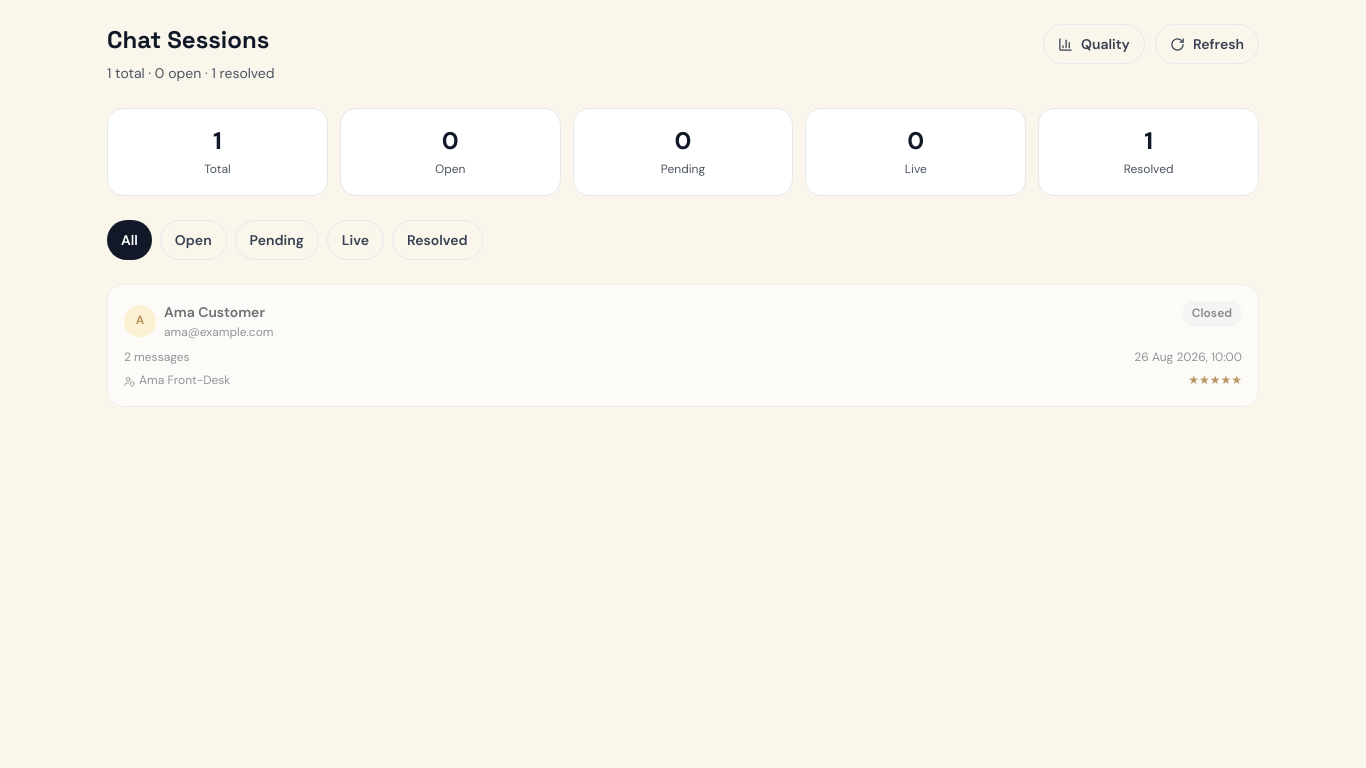
Test: chat console — customer rating (T69 phase 4) › shows the customer's score on the transcript
The width and height of the screenshot is (1366, 768).
Click the button "Ama Customer".
click(140, 321)  # box [107,284,1259,407]
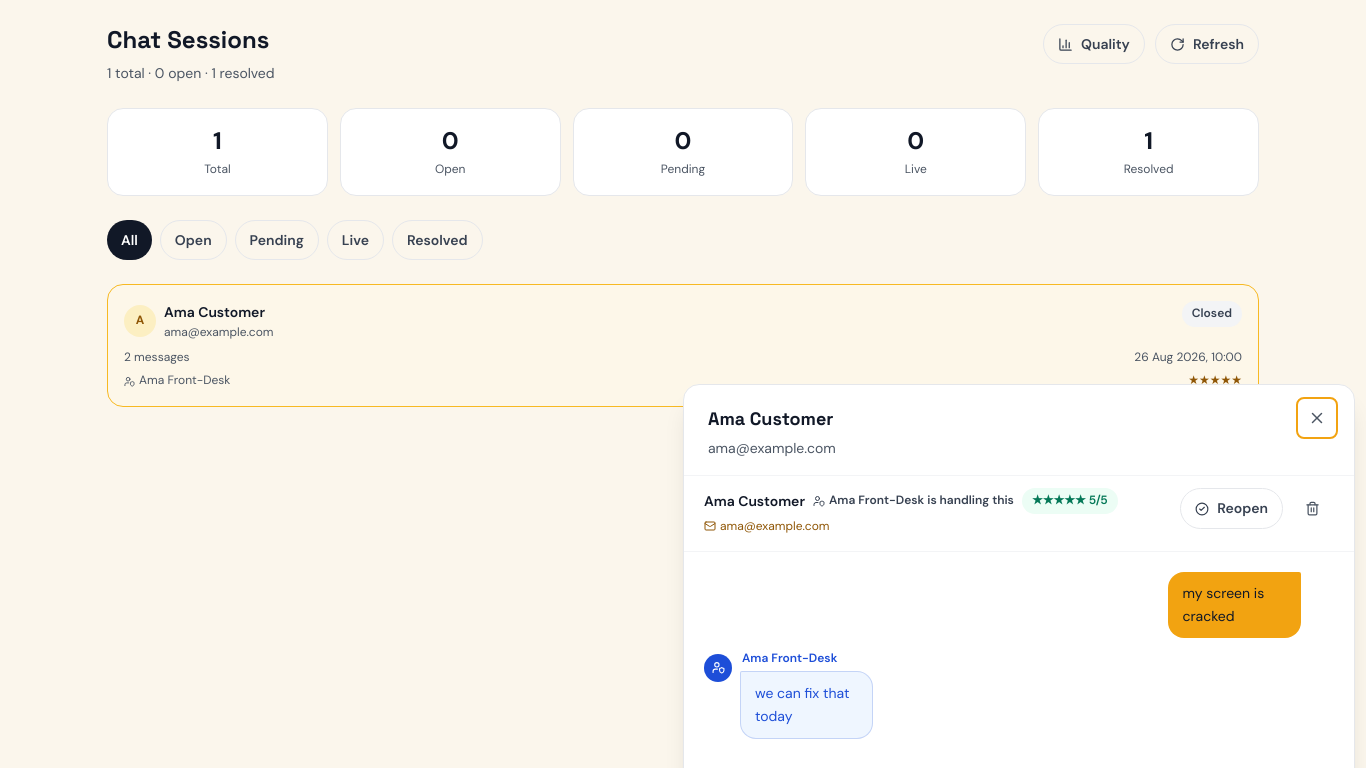
Check: the text "★★★★★ 5/5" is shown, box [1022,488,1118,514]
